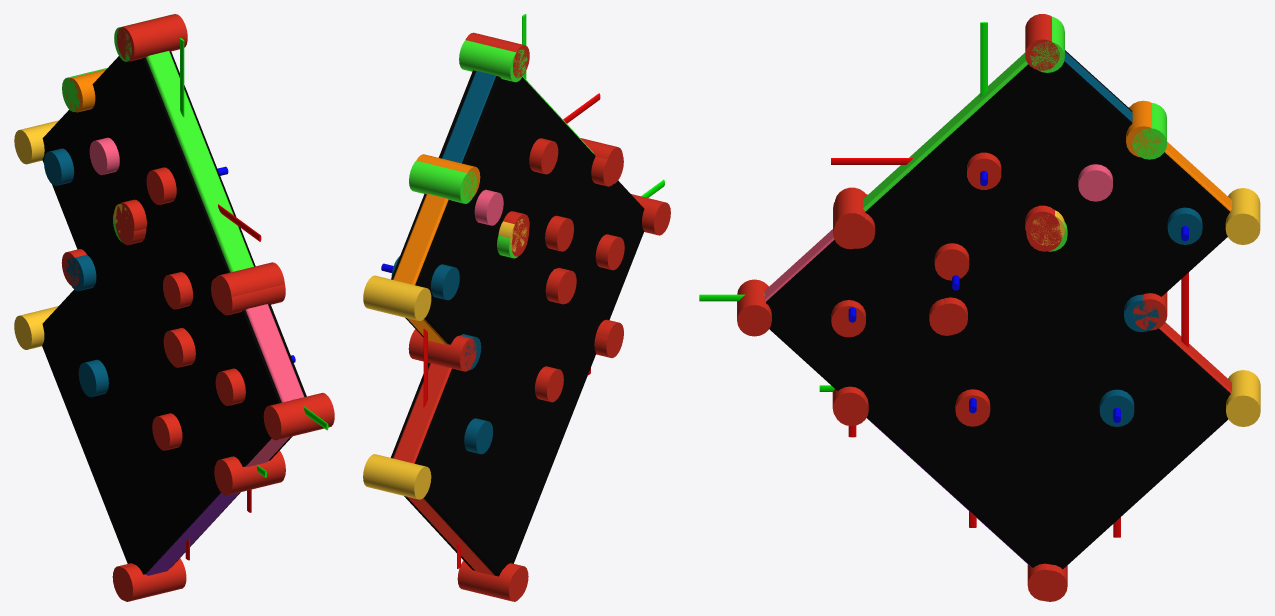
Rendered from Template Heart.fbx.
3 views of the same model, side by side, from view 1: azimuth 30°, elevation 25°; view 2: azimuth 150°, elevation 25°; view 3: azimuth 270°, elevation 25° (orthographic). The views are drawn at different scales.
Visible parts, largest first — view 1: Heart, Template_002, Template_007, ProximitySensor_3_1, ProximitySensor_3_6, ProximitySensor_3_4, ProximitySensor_2_1, Template_005, ProximitySensor_2_6, ProximitySensor_4_1, ProximitySensor_1_2, ProximitySensor_1_5 (+16 smaller); view 2: Heart, Template_006, Template_003, ProximitySensor_1_5, ProximitySensor_1_2, ProximitySensor_3_2, Template_004, ProximitySensor_4, ProximitySensor_2_2, ProximitySensor_2_5, ProximitySensor_3_6, ProximitySensor_3_1 (+15 smaller); view 3: Heart, Template_002, ProximitySensor_1_2, ProximitySensor_1_5, ProximitySensor_3_6, ProximitySensor_3_1, ProximitySensor_2_1, ProximitySensor_3_2, ProximitySensor_1_3, ProximitySensor_0_3, ProximitySensor_0, ProximitySensor_4 (+17 smaller).
Boxes of the visible parts, box(x1,y1,x2,y2) form: Heart: box(42, 51, 306, 574); Template_002: box(146, 51, 253, 272); Template_007: box(245, 304, 304, 466); ProximitySensor_3_1: box(117, 14, 187, 61); ProximitySensor_3_6: box(263, 393, 334, 440); ProximitySensor_3_4: box(115, 558, 186, 601); ProximitySensor_2_1: box(214, 262, 284, 309); Template_005: box(146, 492, 239, 575); ProximitySensor_2_6: box(215, 450, 285, 491); ProximitySensor_4_1: box(215, 281, 285, 315); ProximitySensor_1_2: box(14, 120, 58, 164); ProximitySensor_1_5: box(14, 306, 58, 349); Heart: box(390, 70, 644, 576); Template_006: box(393, 363, 495, 575); Template_003: box(393, 193, 448, 344); ProximitySensor_1_5: box(363, 454, 431, 499); ProximitySensor_1_2: box(363, 275, 431, 320); ProximitySensor_3_2: box(409, 160, 476, 203); Template_004: box(442, 71, 495, 163); ProximitySensor_4: box(459, 40, 527, 82); ProximitySensor_2_2: box(408, 329, 476, 371); ProximitySensor_2_5: box(457, 560, 519, 601); ProximitySensor_3_6: box(631, 194, 670, 235); ProximitySensor_3_1: box(465, 32, 529, 78); Heart: box(766, 50, 1230, 569); Template_002: box(863, 52, 1027, 211); ProximitySensor_1_2: box(1225, 188, 1260, 244); ProximitySensor_1_5: box(1226, 370, 1260, 426); ProximitySensor_3_6: box(737, 279, 771, 336); ProximitySensor_3_1: box(1025, 14, 1059, 70); ProximitySensor_2_1: box(835, 187, 868, 244); ProximitySensor_3_2: box(1132, 103, 1166, 159); ProximitySensor_1_3: box(1126, 100, 1160, 157); ProximitySensor_0_3: box(1078, 164, 1112, 201); ProximitySensor_0: box(934, 243, 969, 280); ProximitySensor_4: box(1030, 16, 1064, 72).
Size of the model in its own units: 180 by 1399 by 1257.
